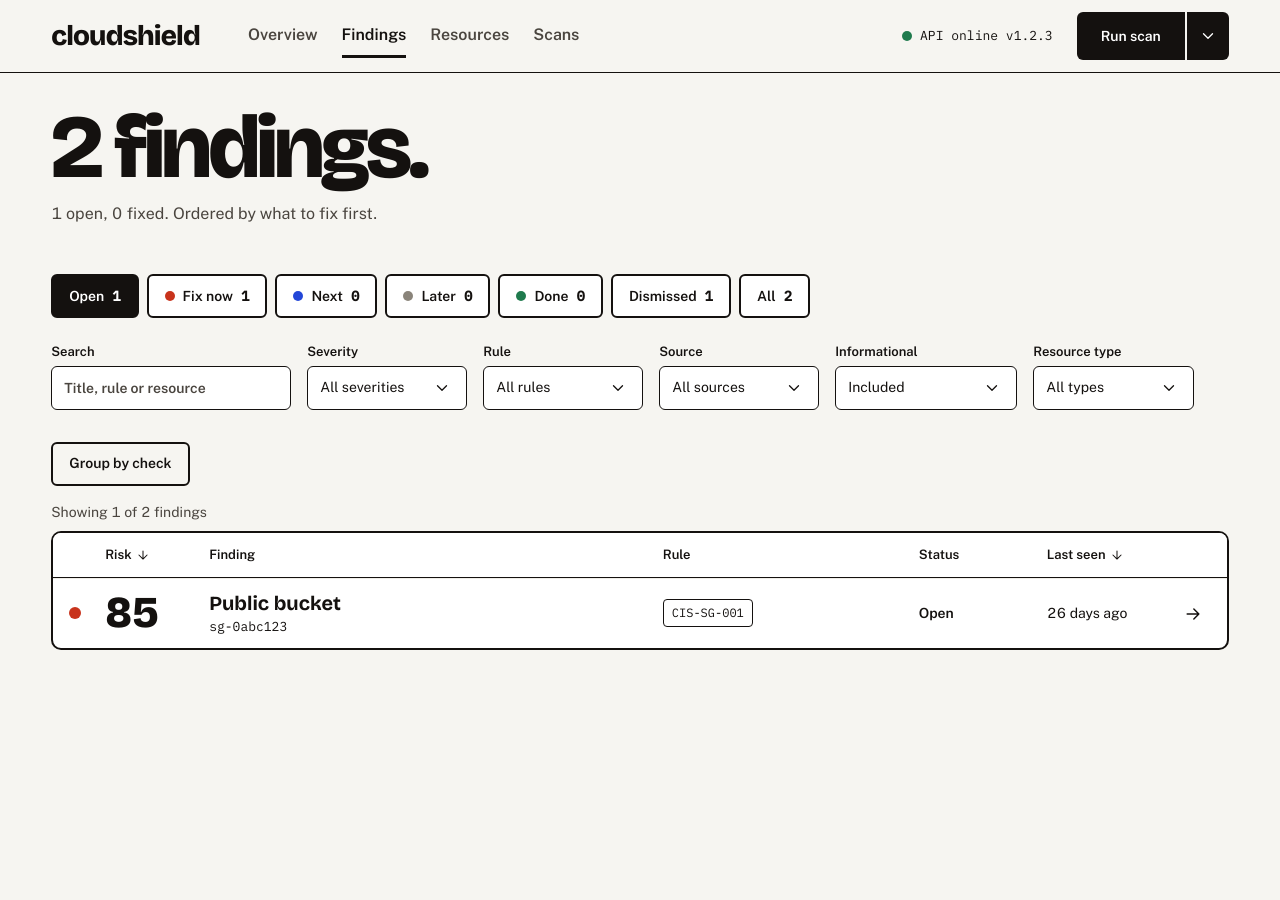
Test case: Findings: dismissed filter › lists them under Dismissed with a chip and the reason
Expected: the table is shown, [53,533,1227,648]
Click the button "Dismissed 1" at x=671, y=296, box [611,274,731,318]
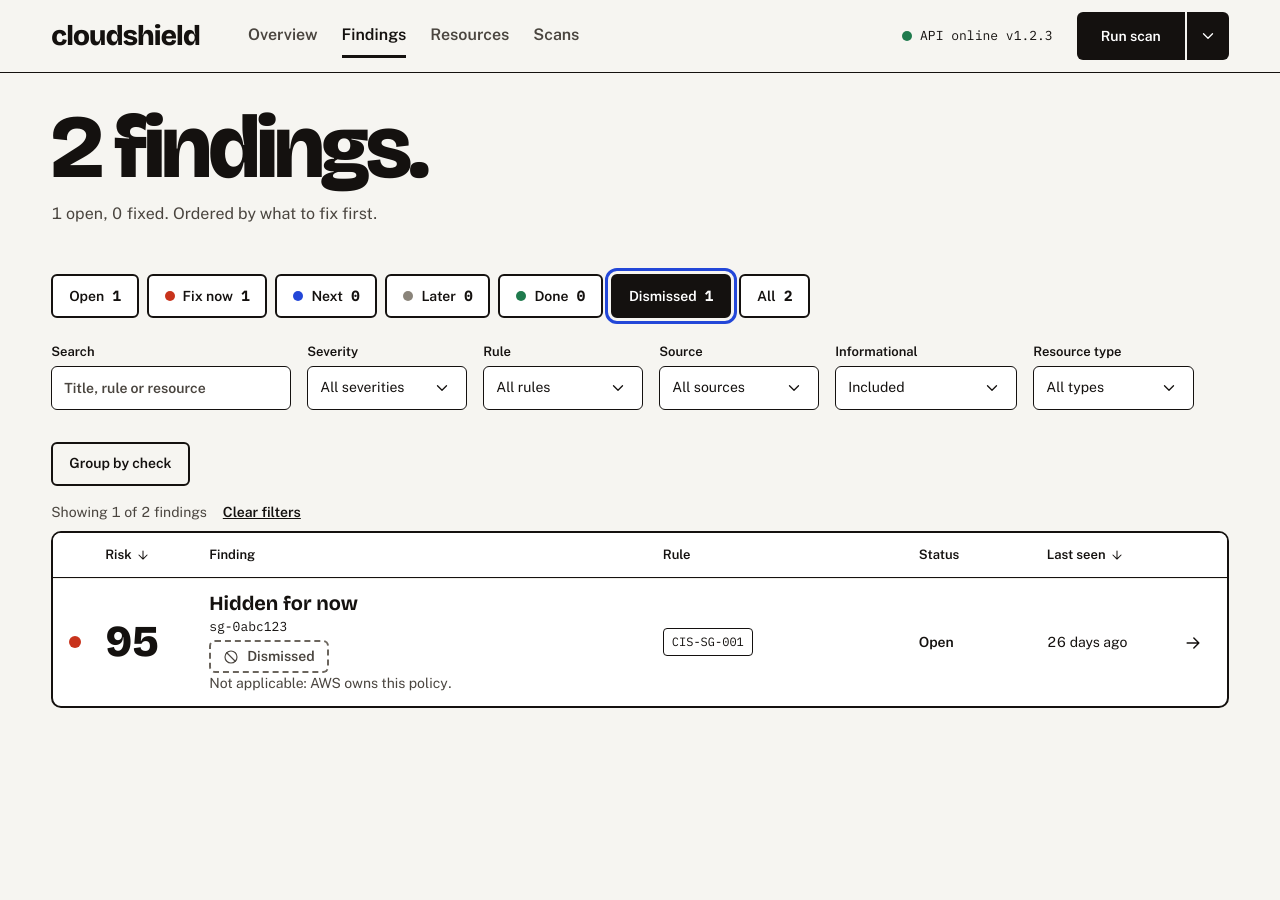
Result: the text "Dismissed" is shown at [209,640,329,673]
Result: the text "Not applicable: AWS owns this policy." is shown at [209,675,452,691]
Result: the link "Public bucket" is gone
